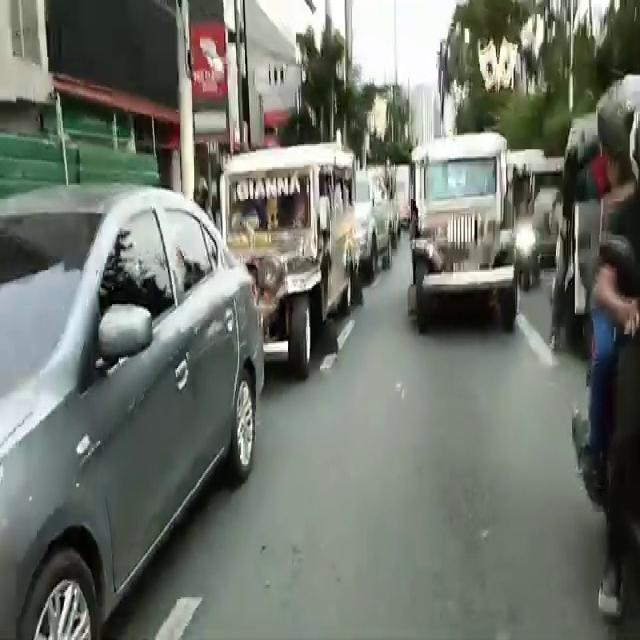car: (0, 234, 274, 634)
jeepney: (207, 162, 365, 357), (416, 136, 516, 325)
motorcycle: (517, 174, 541, 299)
